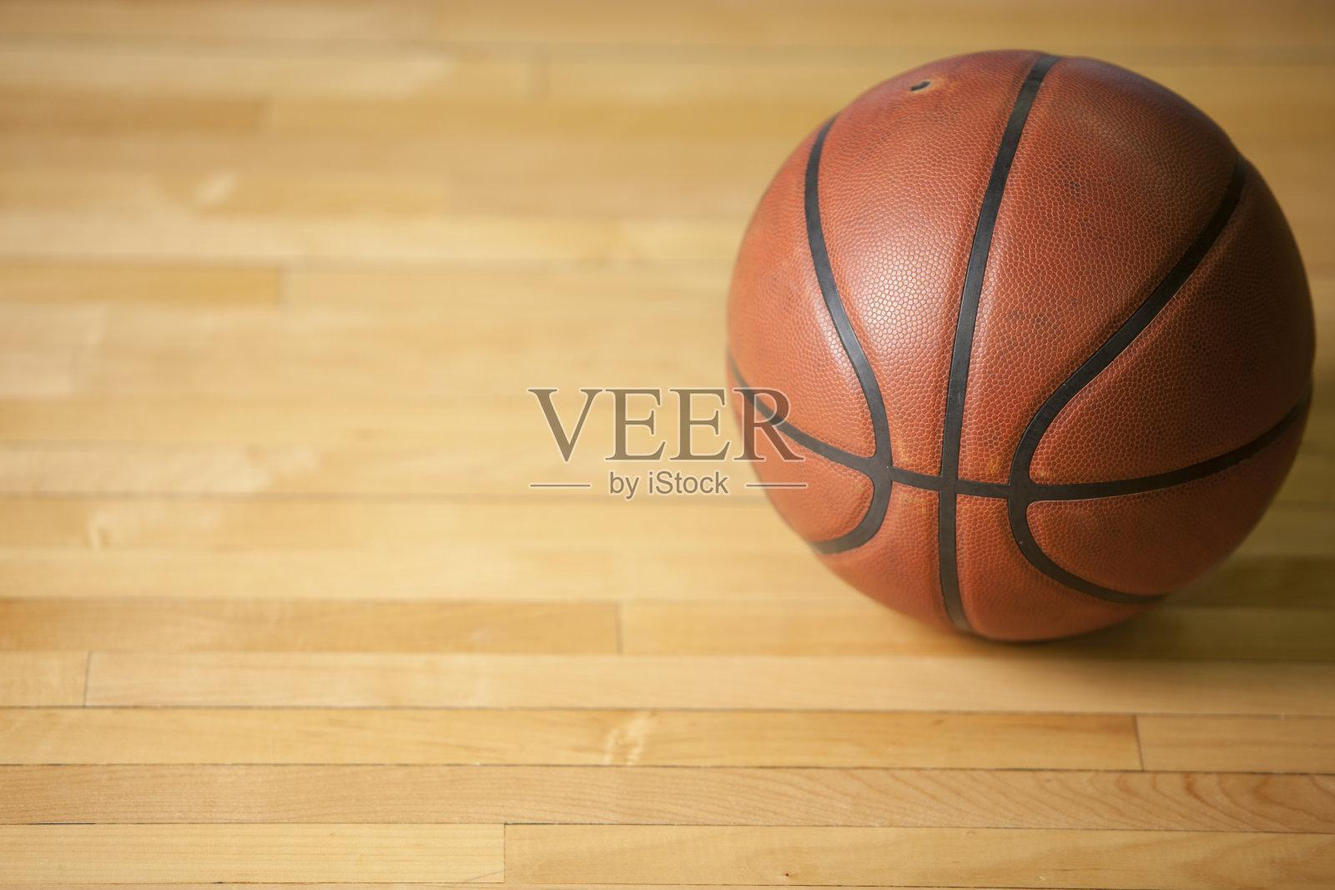ball: (729, 52, 1316, 644)
